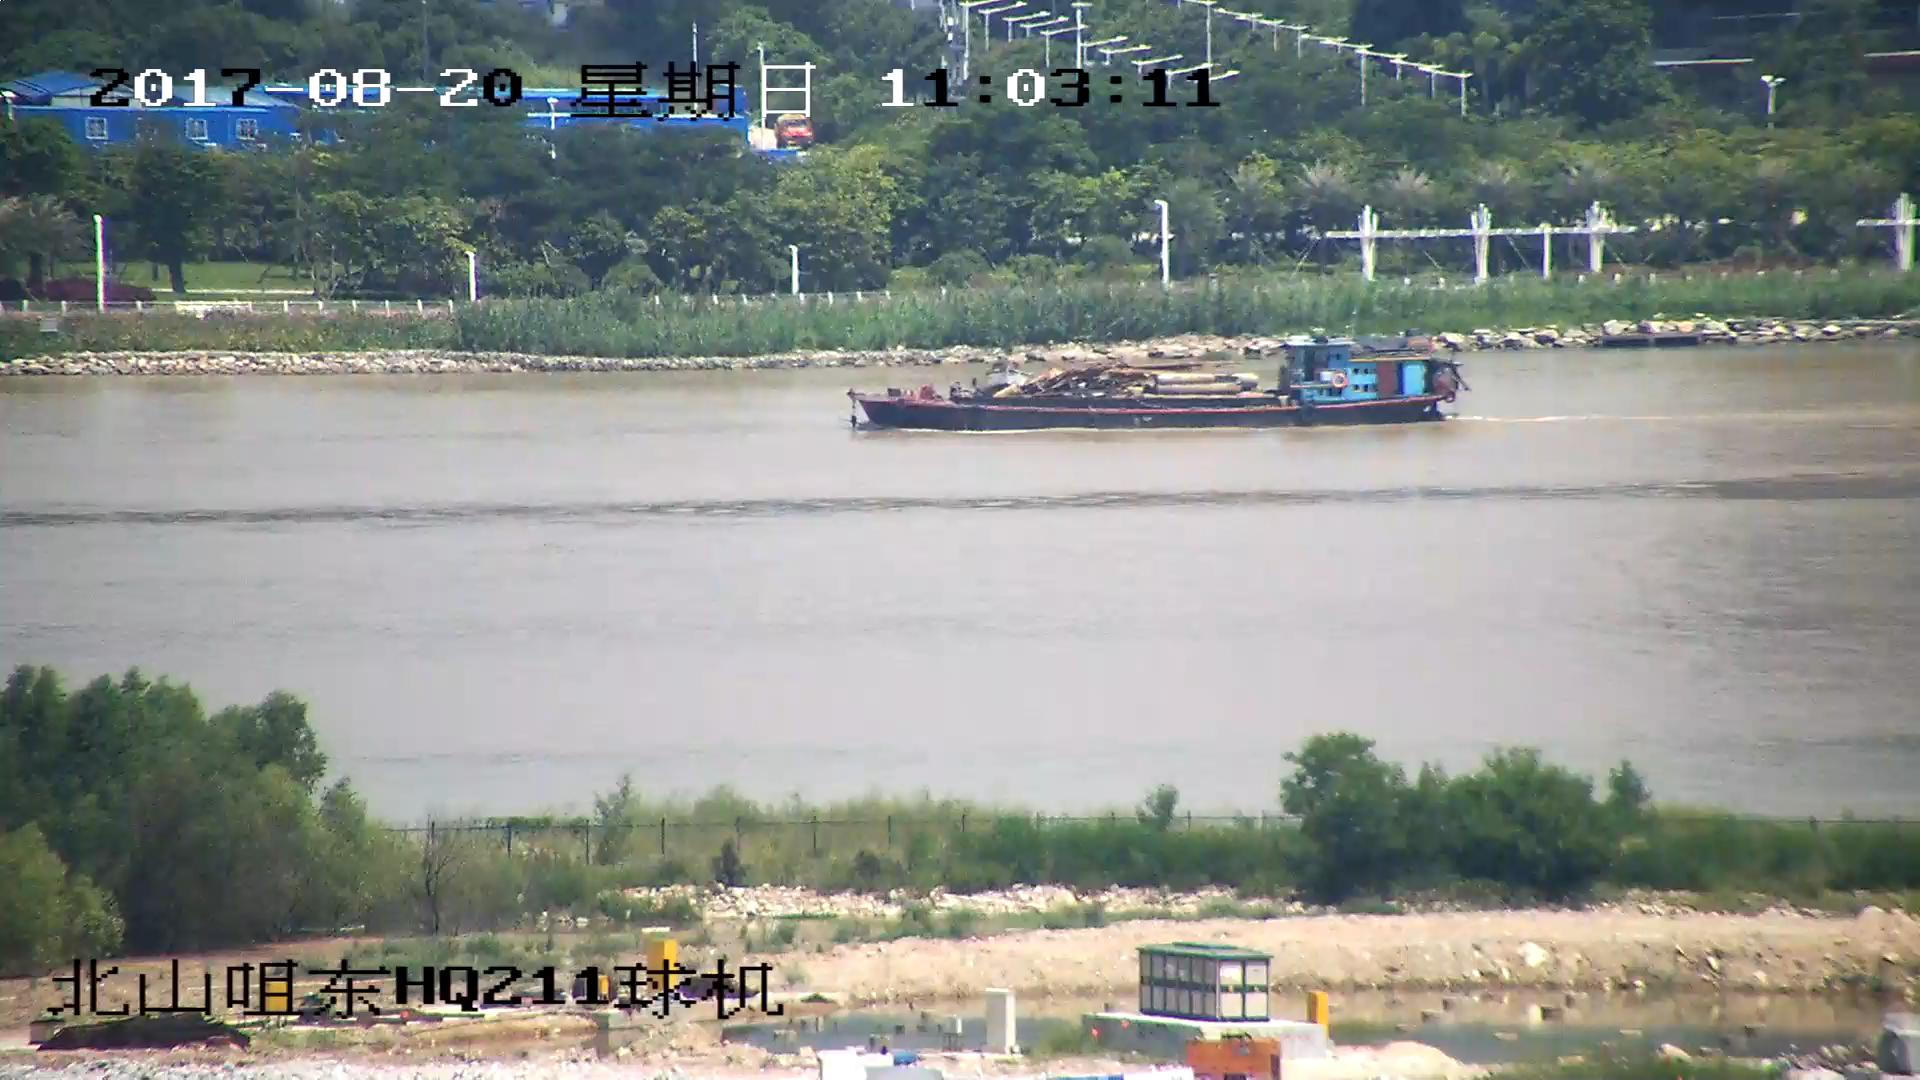bulk cargo carrier: (846, 343, 1464, 434)
